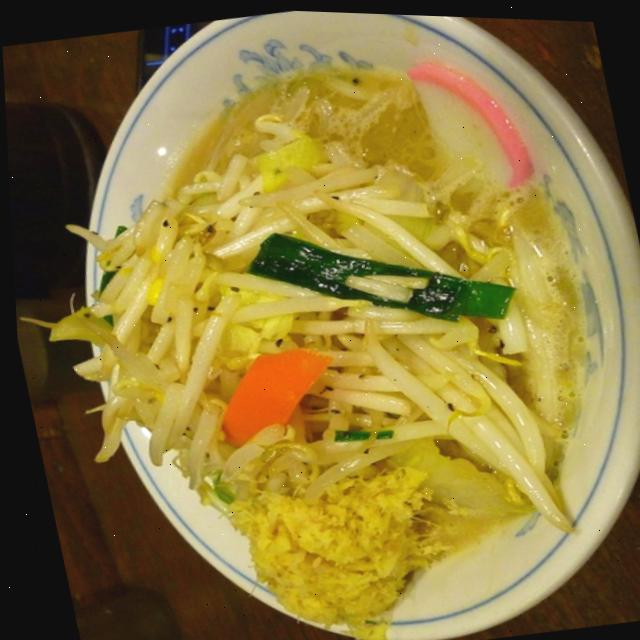面条主食: (50, 31, 622, 634)
